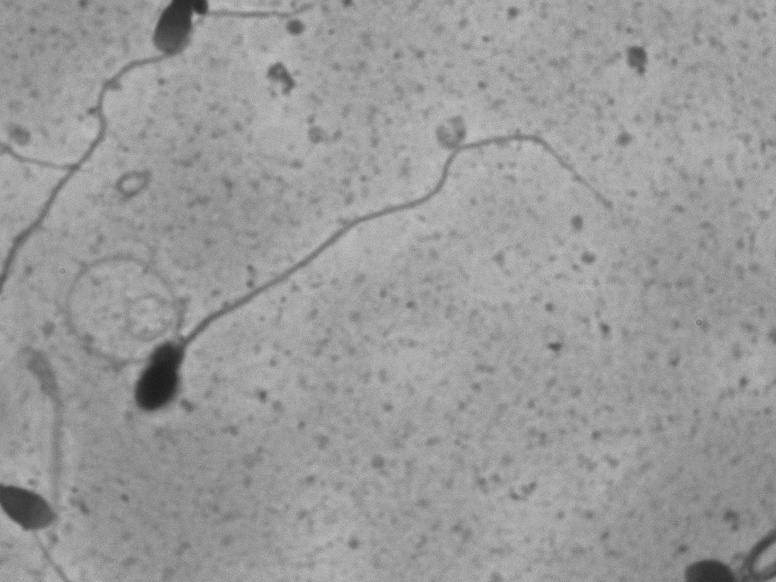Abnormal: (116, 93, 623, 444)
